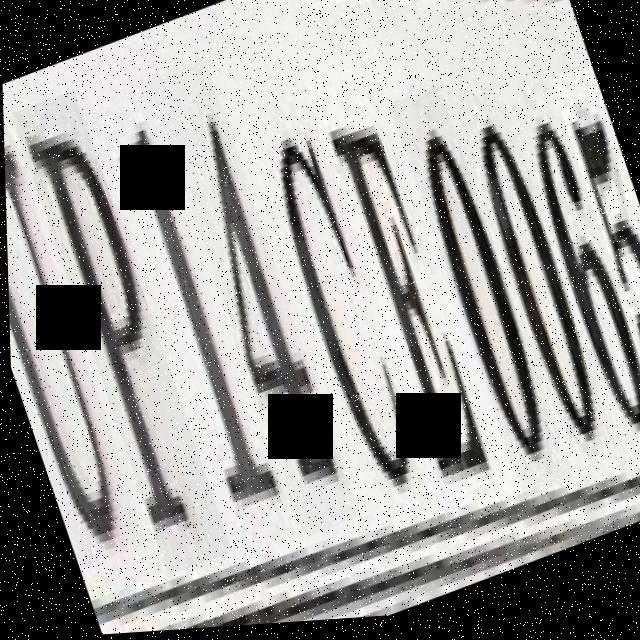0: (388, 84, 571, 511), (445, 77, 626, 499)
1: (96, 88, 295, 566)
4: (147, 54, 358, 548)
5: (548, 69, 640, 450)
6: (500, 71, 640, 478)
C: (234, 67, 436, 532)
E: (299, 49, 497, 513)
P: (9, 83, 229, 585)
U: (2, 99, 145, 572)
